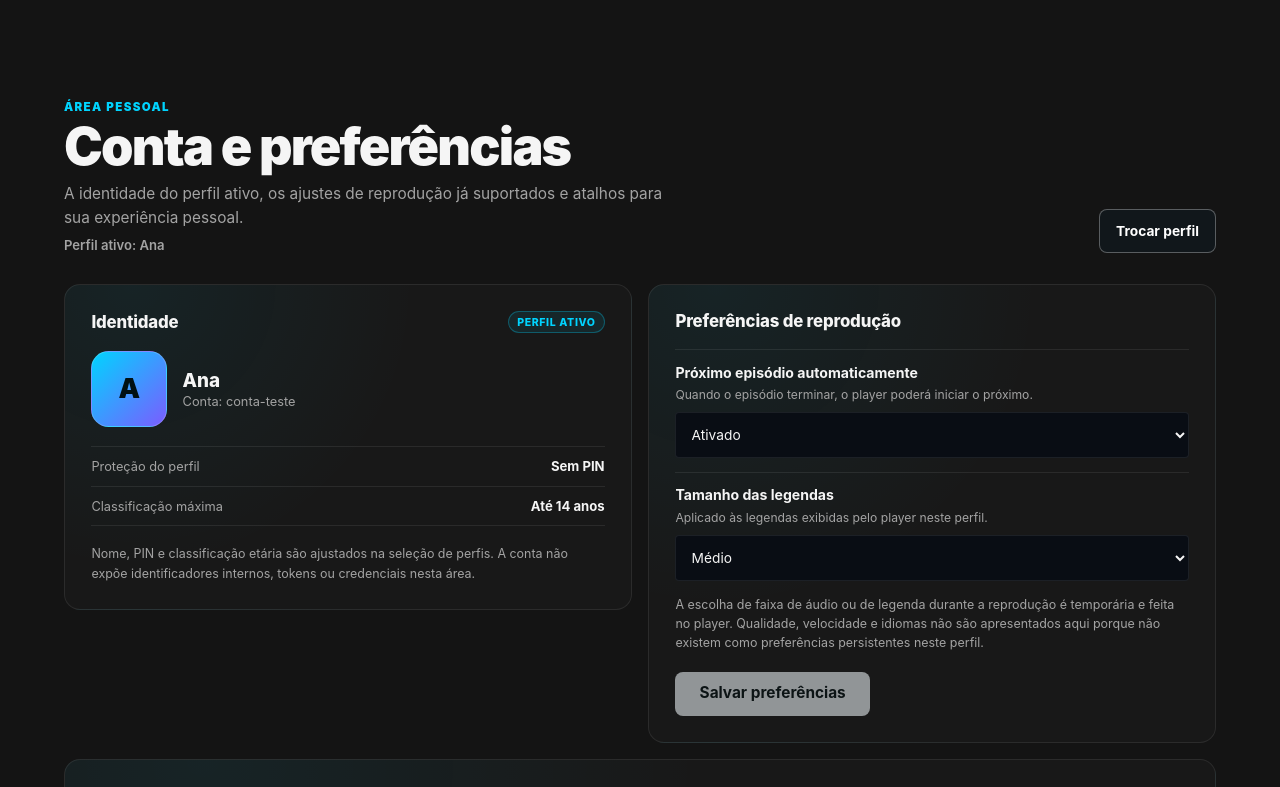
keeps the draft and reports a persistence failure
Select "Desativado" in the dropdown labelled "Próximo episódio automaticamente" at (932, 435), box x1=675 y1=412 x2=1189 y2=458
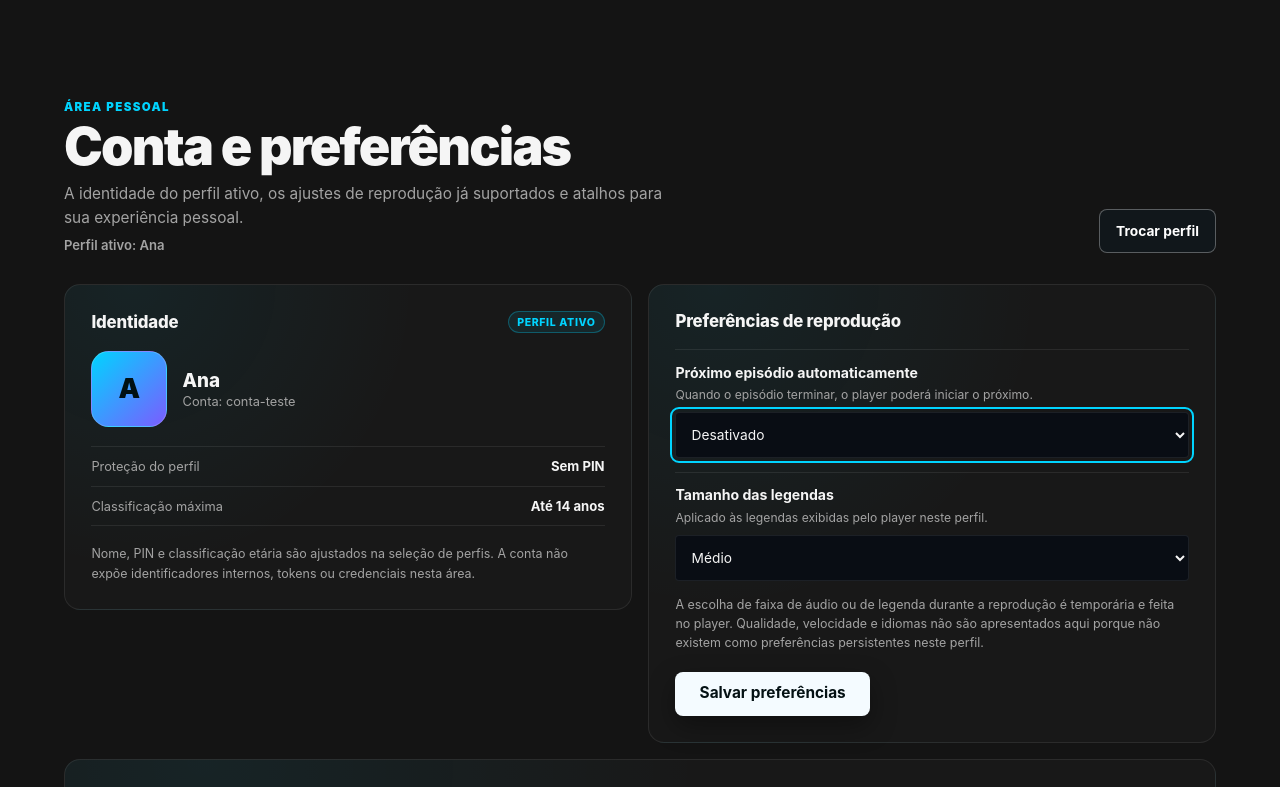
Click the button "Salvar preferências" at (773, 694), box x1=675 y1=672 x2=870 y2=716
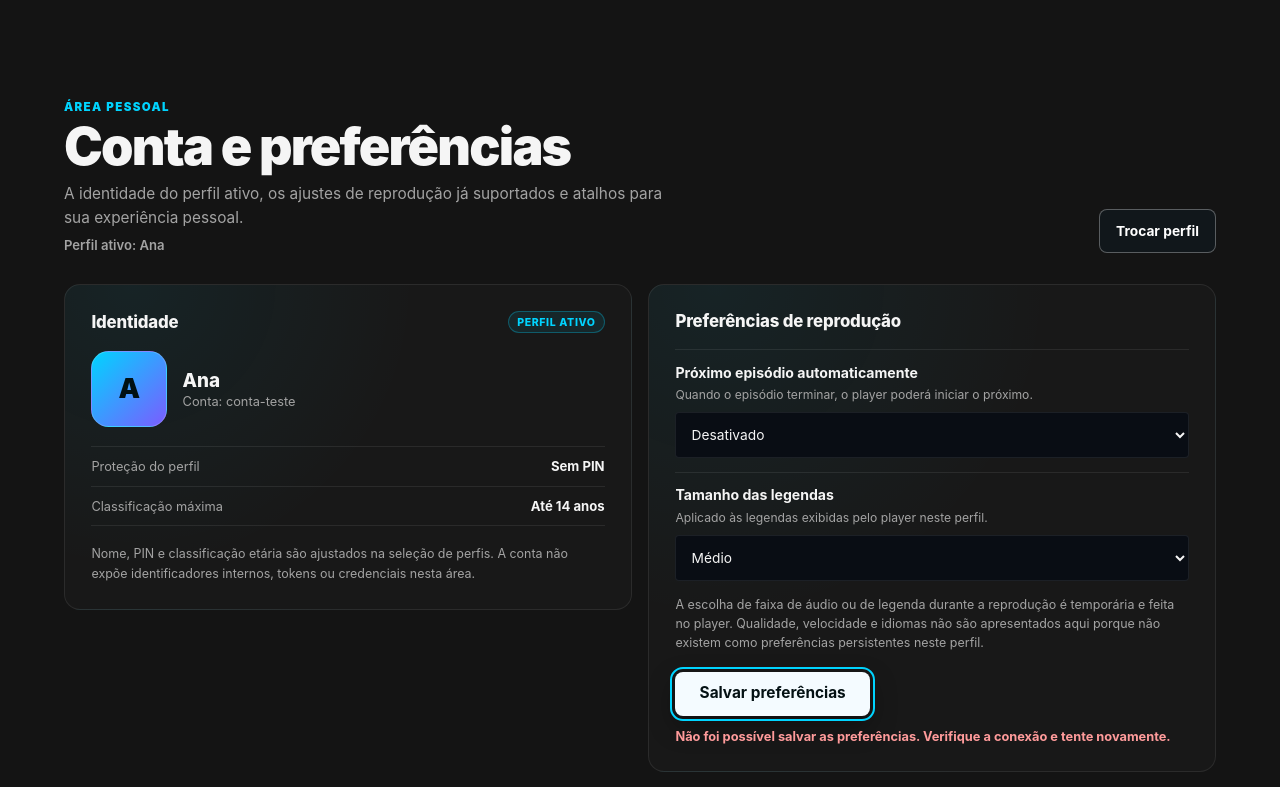
Expected: the message shows "Não foi possível salvar as preferências", x1=675 y1=729 x2=1171 y2=744
